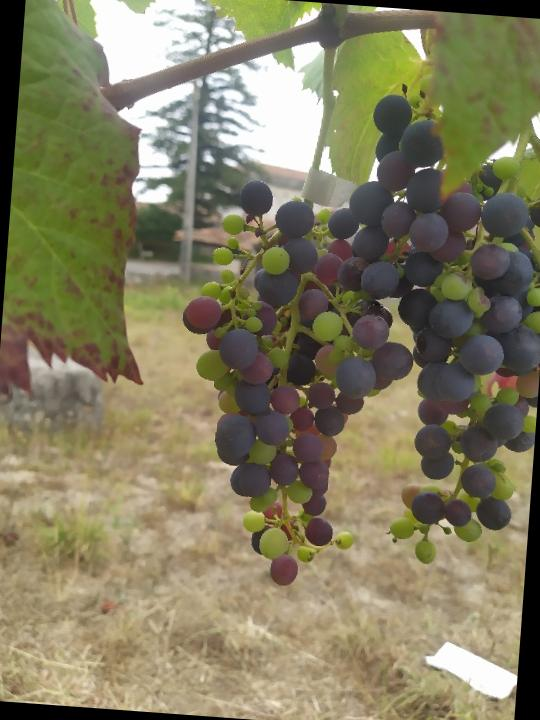grape: (307, 78, 540, 571), (160, 177, 429, 598)
